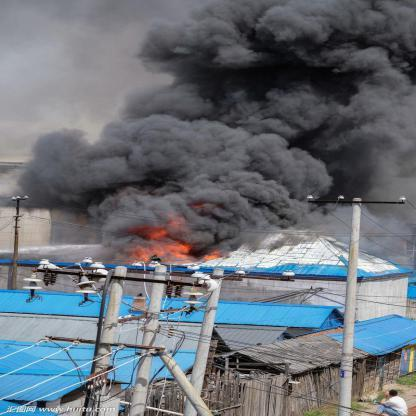smoke: (219, 0, 411, 43), (311, 41, 409, 112), (256, 102, 398, 150), (136, 92, 261, 144), (215, 146, 315, 210), (109, 129, 218, 184), (153, 20, 275, 64), (126, 182, 252, 224), (33, 140, 120, 196), (341, 152, 408, 194)
